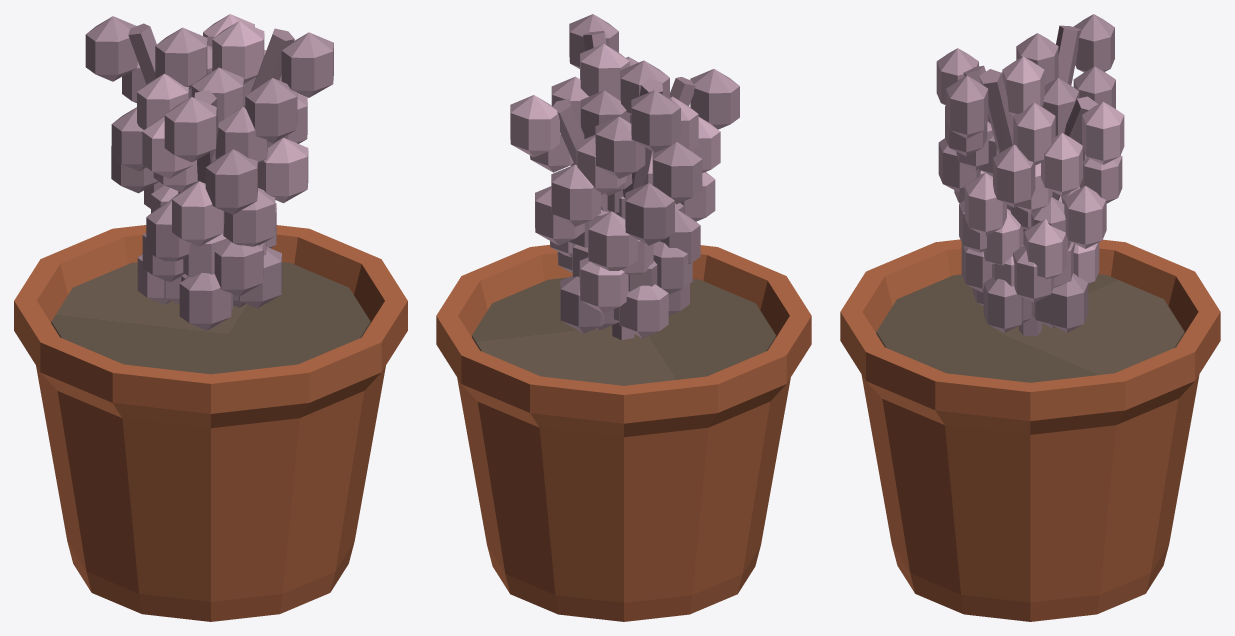
File: pink.glb
The picture shows the model from 3 angles, left to right: view 1: azimuth 30°, elevation 25°; view 2: azimuth 150°, elevation 25°; view 3: azimuth 270°, elevation 25°; orthographic projection. The views are drawn at different scales.
Visible parts, largest first — view 1: pink/review-terra-vessel, pink/review-rooted-soil, pink/ovoid-leaf-045, pink/ovoid-leaf-060, pink/ovoid-leaf-040, pink/ovoid-leaf-030, pink/ovoid-leaf-058, pink/ovoid-leaf-053, pink/ovoid-leaf-038, pink/ovoid-leaf-029, pink/ovoid-leaf-059, pink/ovoid-leaf-033 (+19 smaller); view 2: pink/review-terra-vessel, pink/review-rooted-soil, pink/ovoid-leaf-030, pink/ovoid-leaf-023, pink/ovoid-leaf-015, pink/ovoid-leaf-025, pink/ovoid-leaf-021, pink/ovoid-leaf-010, pink/ovoid-leaf-028, pink/ovoid-leaf-045, pink/ovoid-leaf-018, pink/ovoid-leaf-005 (+18 smaller); view 3: pink/review-terra-vessel, pink/review-rooted-soil, pink/ovoid-leaf-015, pink/ovoid-leaf-060, pink/ovoid-leaf-008, pink/ovoid-leaf-055, pink/ovoid-leaf-013, pink/ovoid-leaf-053, pink/ovoid-leaf-006, pink/ovoid-leaf-057, pink/ovoid-leaf-030, pink/ovoid-leaf-059 (+20 smaller).
Boxes of the visible parts, left/top/right/bottom form: pink/review-terra-vessel: left=14, top=225, right=407, bottom=621; pink/review-rooted-soil: left=51, top=262, right=370, bottom=374; pink/ovoid-leaf-045: left=164, top=97, right=216, bottom=162; pink/ovoid-leaf-060: left=281, top=32, right=333, bottom=97; pink/ovoid-leaf-040: left=205, top=149, right=257, bottom=214; pink/ovoid-leaf-030: left=85, top=16, right=137, bottom=81; pink/ovoid-leaf-058: left=245, top=78, right=297, bottom=143; pink/ovoid-leaf-053: left=258, top=137, right=308, bottom=203; pink/ovoid-leaf-038: left=172, top=181, right=224, bottom=246; pink/ovoid-leaf-029: left=155, top=27, right=207, bottom=89; pink/ovoid-leaf-059: left=212, top=21, right=264, bottom=83; pink/ovoid-leaf-033: left=179, top=273, right=231, bottom=330; pink/review-terra-vessel: left=436, top=245, right=811, bottom=621; pink/review-rooted-soil: left=472, top=277, right=775, bottom=385; pink/ovoid-leaf-030: left=631, top=90, right=680, bottom=152; pink/ovoid-leaf-023: left=625, top=183, right=674, bottom=245; pink/ovoid-leaf-015: left=510, top=95, right=559, bottom=157; pink/ovoid-leaf-025: left=652, top=142, right=702, bottom=204; pink/ovoid-leaf-021: left=588, top=211, right=637, bottom=270; pink/ovoid-leaf-010: left=551, top=164, right=600, bottom=226; pink/ovoid-leaf-028: left=595, top=116, right=645, bottom=178; pink/ovoid-leaf-045: left=690, top=69, right=739, bottom=129; pink/ovoid-leaf-018: left=619, top=284, right=668, bottom=338; pink/ovoid-leaf-005: left=579, top=257, right=628, bottom=313; pink/review-terra-vessel: left=840, top=239, right=1220, bottom=621; pink/review-rooted-soil: left=876, top=274, right=1184, bottom=382; pink/ovoid-leaf-015: left=1082, top=101, right=1124, bottom=164; pink/ovoid-leaf-060: left=946, top=75, right=988, bottom=138; pink/ovoid-leaf-008: left=1064, top=185, right=1106, bottom=248; pink/ovoid-leaf-055: left=993, top=144, right=1035, bottom=207; pink/ovoid-leaf-013: left=1041, top=133, right=1082, bottom=195; pink/ovoid-leaf-053: left=964, top=173, right=1006, bottom=235; pink/ovoid-leaf-006: left=1024, top=218, right=1066, bottom=279; pink/ovoid-leaf-057: left=1013, top=103, right=1055, bottom=165; pink/ovoid-leaf-030: left=1073, top=14, right=1114, bottom=72; pink/ovoid-leaf-059: left=1002, top=56, right=1044, bottom=114.
Bounding box in the file's own units: 0.19 × 0.2873 × 0.19.
3 materials, 3 textured.
